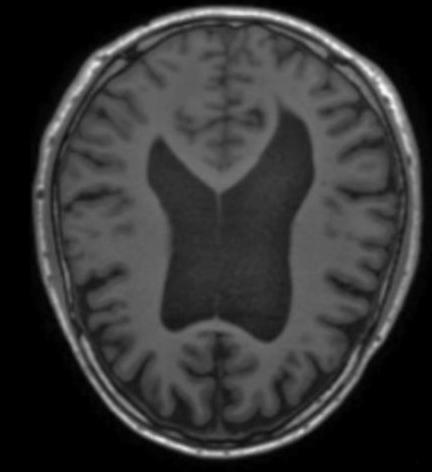Normal_Brain: (24, 6, 432, 469)
